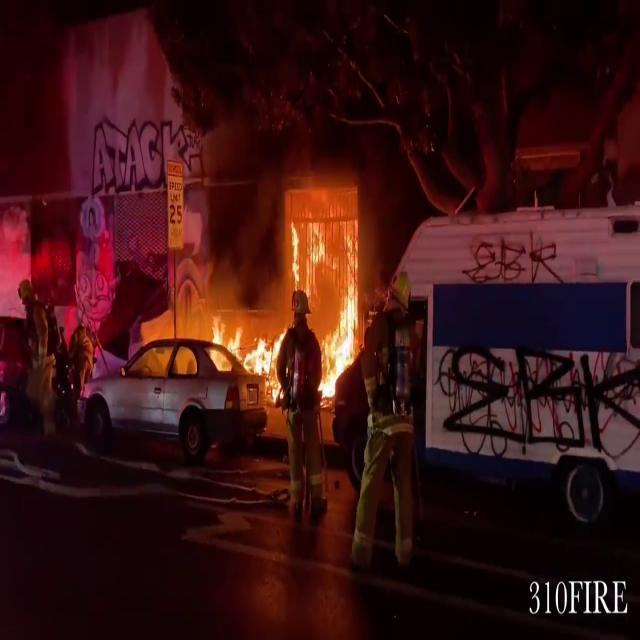Fire: (280, 195, 364, 402), (210, 314, 282, 388)
Smoke: (196, 103, 298, 309)
